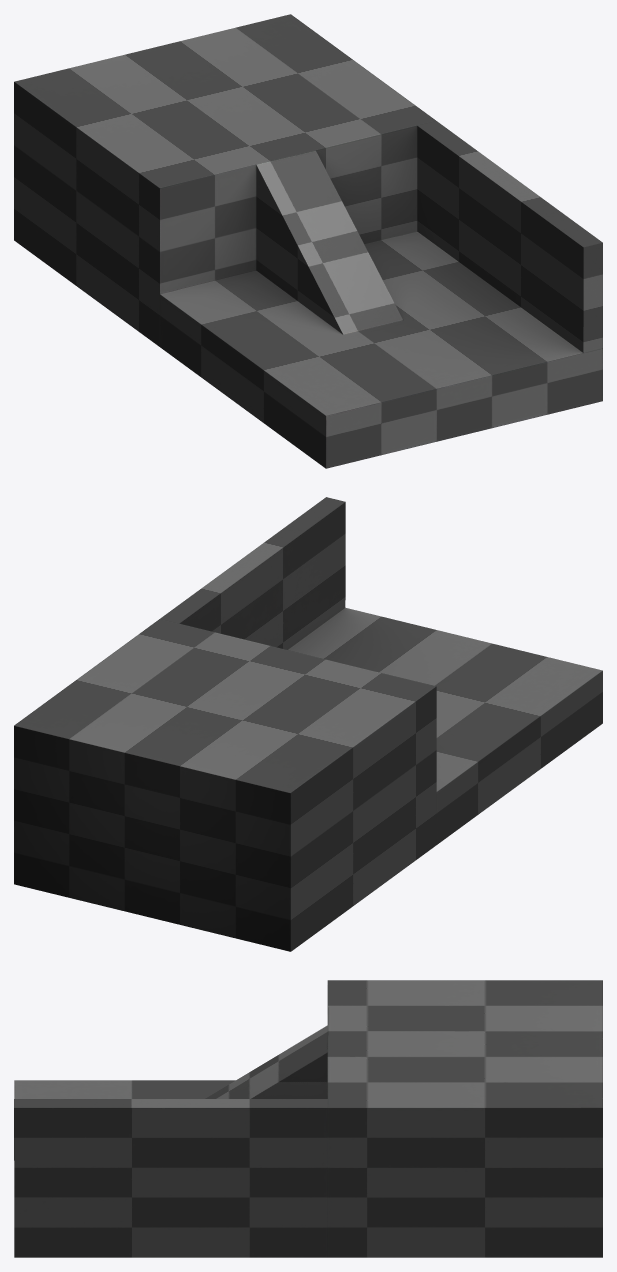
File: cenario-teste.obj
3 views of the same model, one above another, from view 1: azimuth 30°, elevation 25°; view 2: azimuth 150°, elevation 25°; view 3: azimuth 270°, elevation 25° (orthographic). The views are drawn at different scales.
Parts seen in each view (by area): view 1: Plane; view 2: Plane; view 3: Plane.
Boxes of the visible parts, <box> form: Plane: <box>14,14,602,468</box>; Plane: <box>14,497,602,951</box>; Plane: <box>14,980,602,1257</box>.
Size of the model in its own units: 5.48 by 3 by 10.7.
